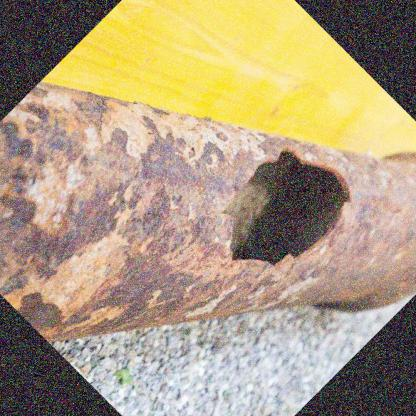burst: (219, 147, 359, 266)
